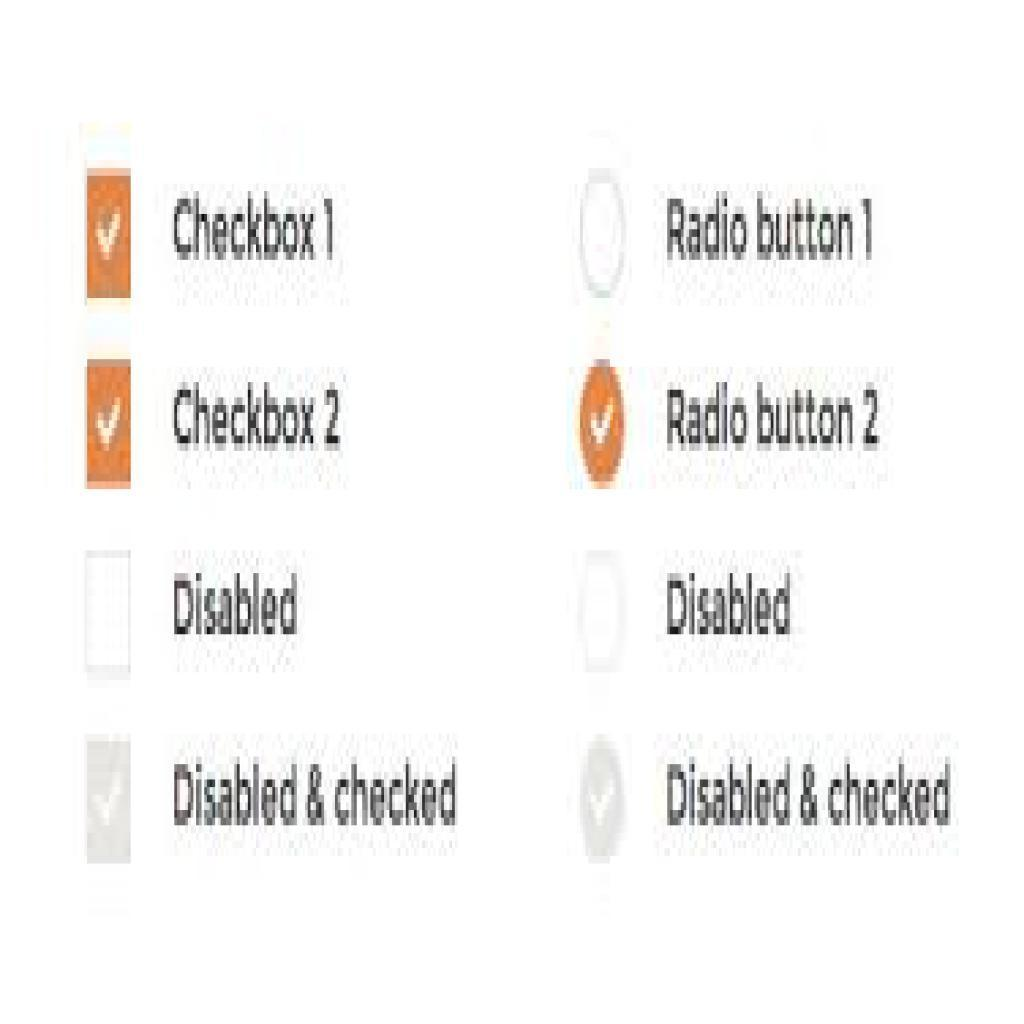checkbox: (86, 739, 137, 866), (83, 552, 133, 675), (86, 358, 132, 488), (86, 173, 132, 302)
radio: (576, 544, 628, 683), (578, 729, 628, 869), (577, 169, 627, 307), (578, 353, 627, 487)
